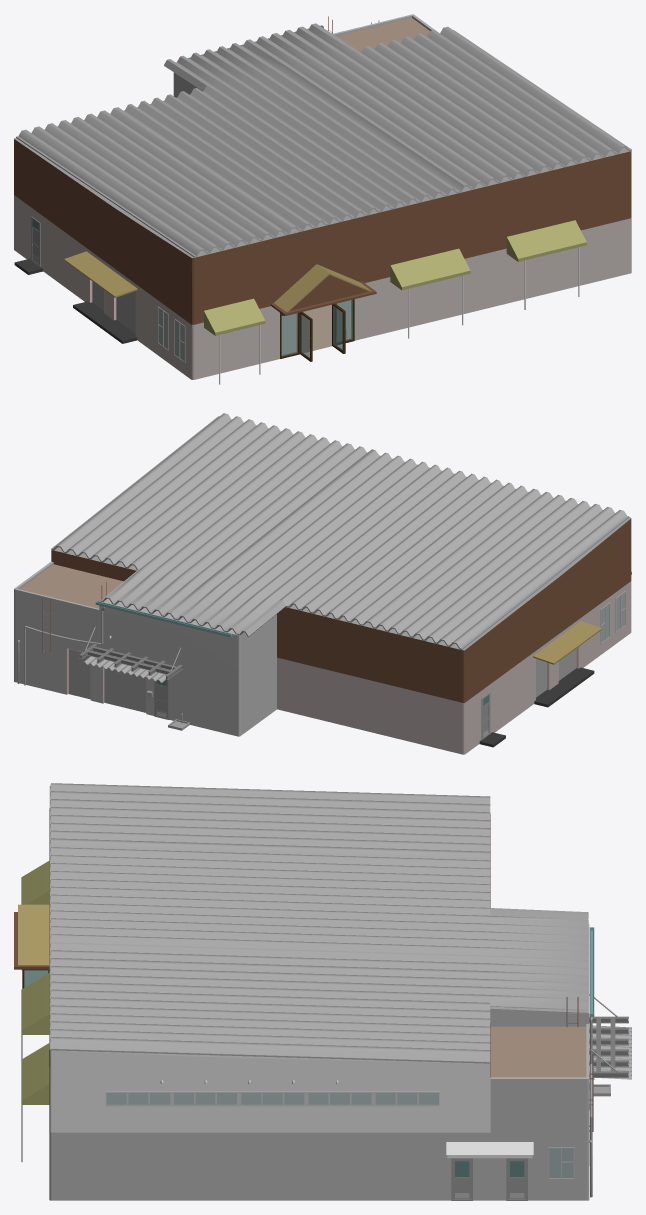
The model's file is SuperMarket_high.fbx.
The picture shows the model from 3 angles, top to bottom: view 1: azimuth 30°, elevation 25°; view 2: azimuth 150°, elevation 25°; view 3: azimuth 270°, elevation 25°; orthographic projection. The views are drawn at different scales.
Parts seen in each view (by area): view 1: SuperMarker_high; view 2: SuperMarker_high; view 3: SuperMarker_high.
Part boxes in pixels (x1=…): SuperMarker_high: x1=14, y1=14, x2=631, y2=384; SuperMarker_high: x1=14, y1=413, x2=631, y2=754; SuperMarker_high: x1=14, y1=783, x2=631, y2=1200.
Size of the model in its own units: 2275 by 581 by 2063.
